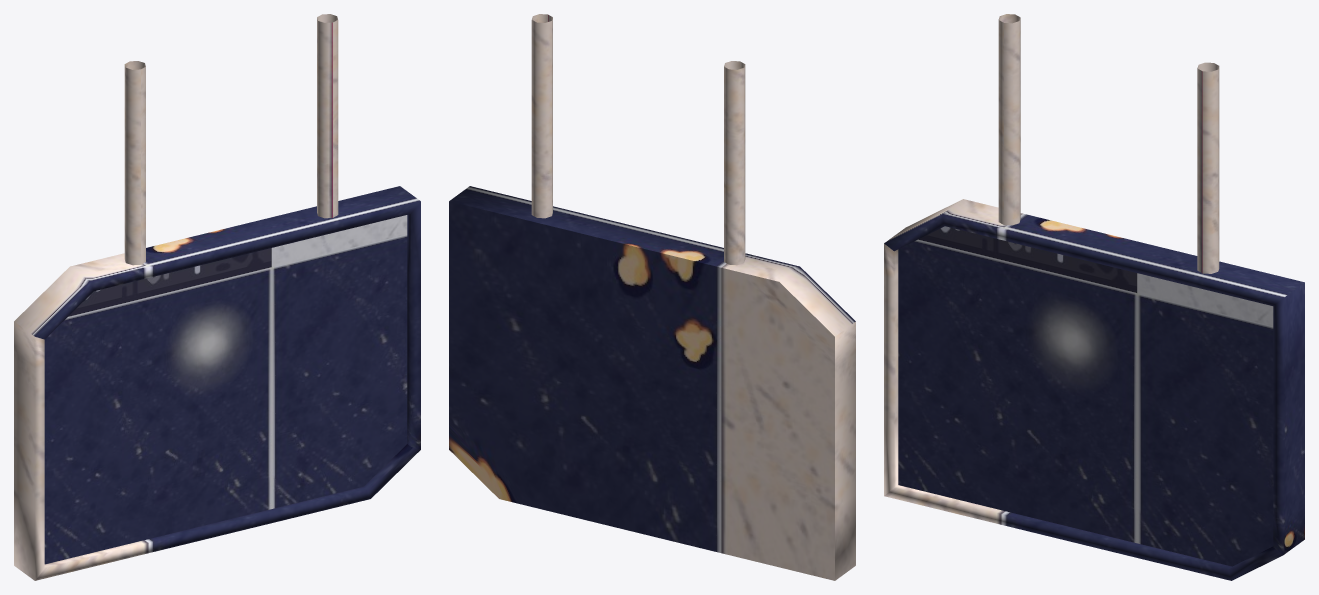
File: Placa.fbx
3 renders of one model, left to right at view 1: azimuth 30°, elevation 25°; view 2: azimuth 150°, elevation 25°; view 3: azimuth 330°, elevation 25°, orthographic. The views are drawn at different scales.
Visible parts, largest first — view 1: PlacaIndicativa; view 2: PlacaIndicativa; view 3: PlacaIndicativa.
Boxes of the visible parts, x1,y1,x2,y2 form: PlacaIndicativa: (14,14,420,580); PlacaIndicativa: (449,14,855,580); PlacaIndicativa: (884,14,1304,580).
Size of the model in its own units: 48.89 by 58.21 by 4.58.
